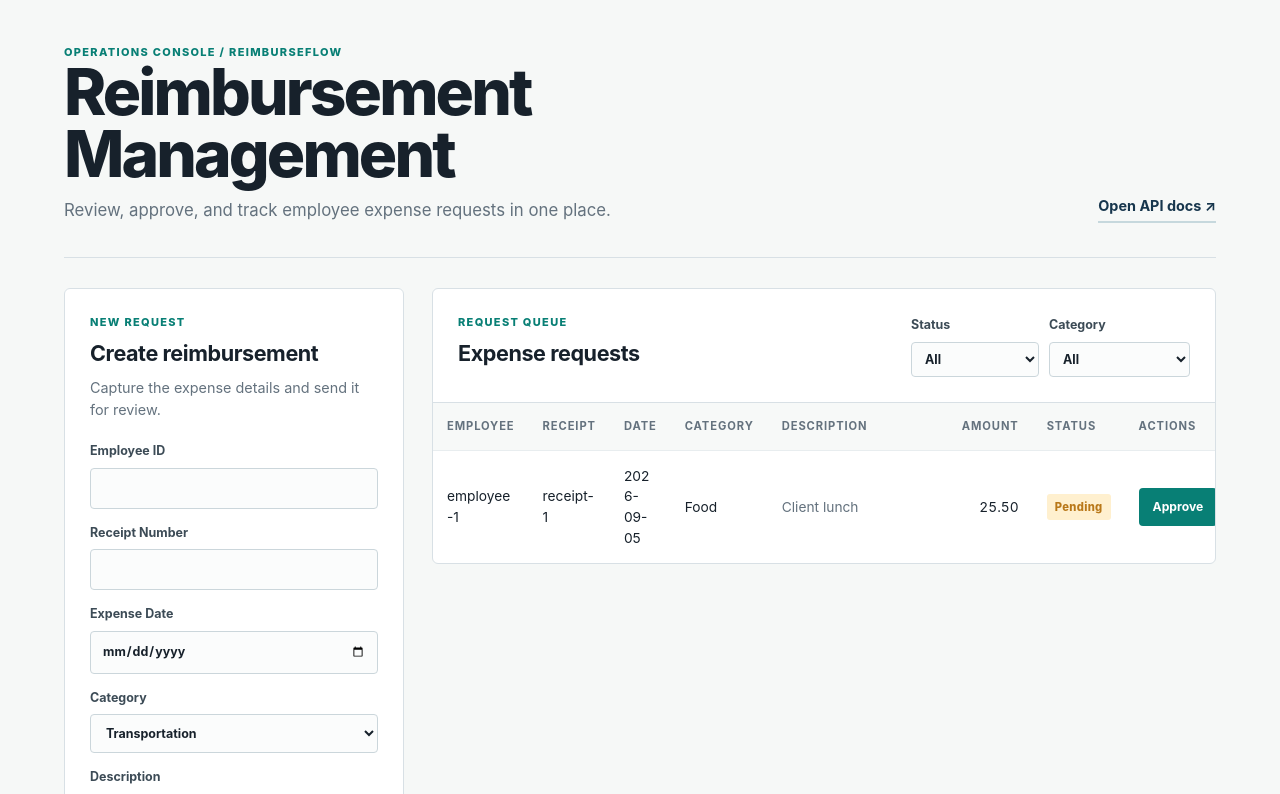
Scenario: ReimbursementsPage › refreshes after an approve conflict and hides stale pending actions when the server has approved it
Expected: the text "employee-1" is shown, [433,450,529,563]
Click the button "Approve" at (1178, 507), box [1139,488,1217,526]
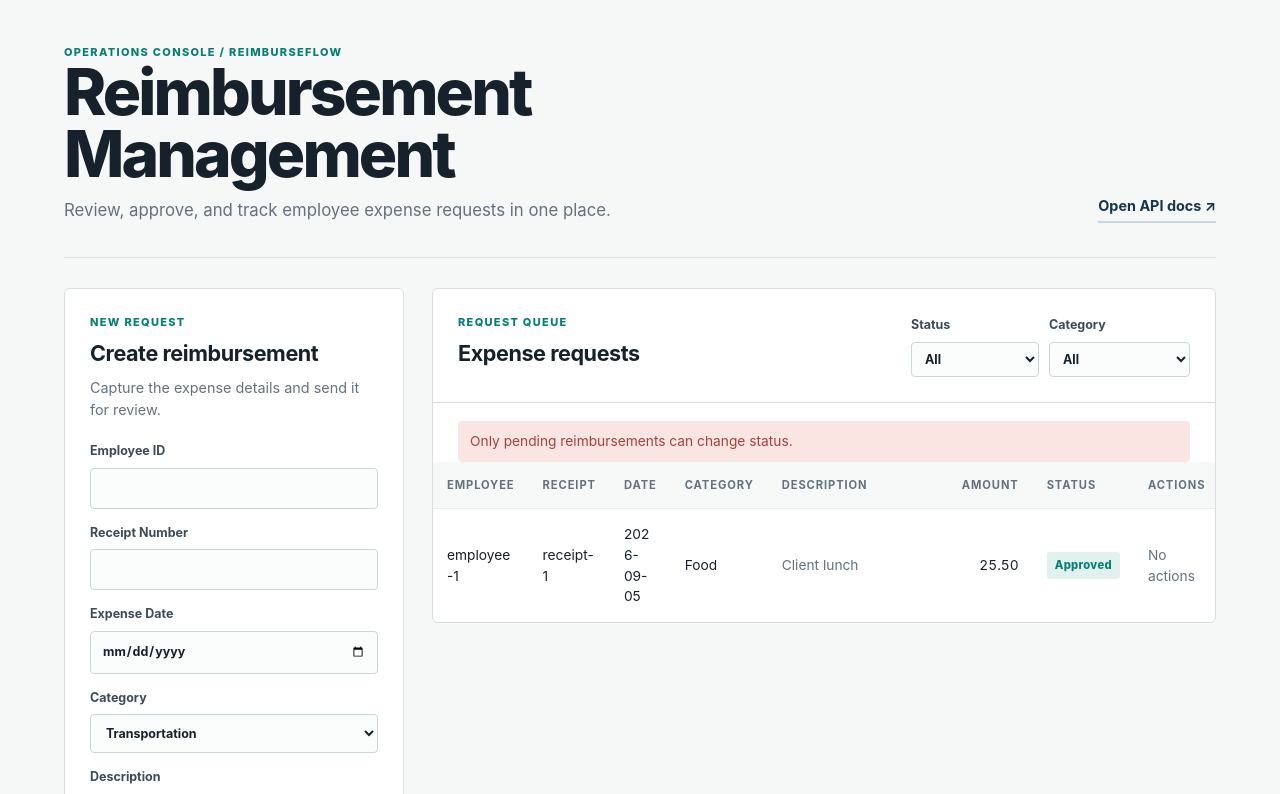
Expected: the button "Reject" is not shown
Result: the text "Only pending reimbursements can change status." is shown at [458,421,1190,462]
